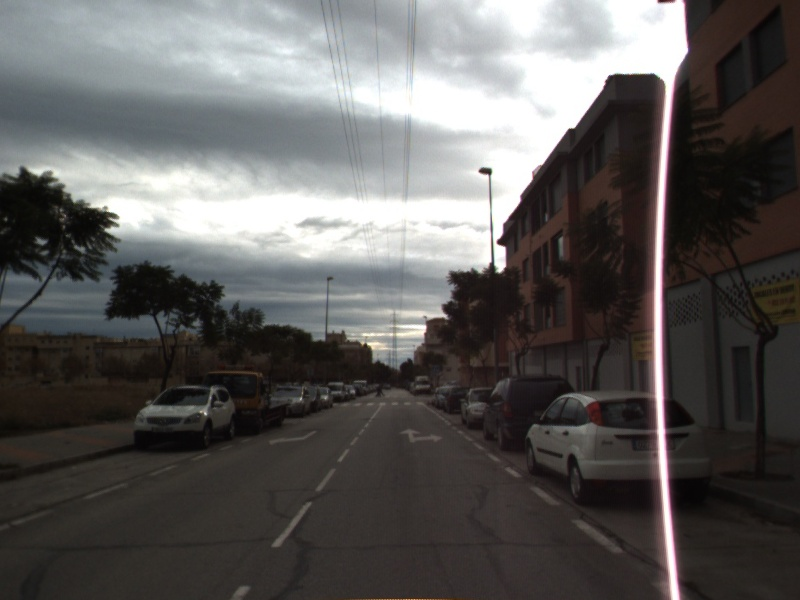STRAIGHT_RIGHT: (398, 426, 446, 445)
